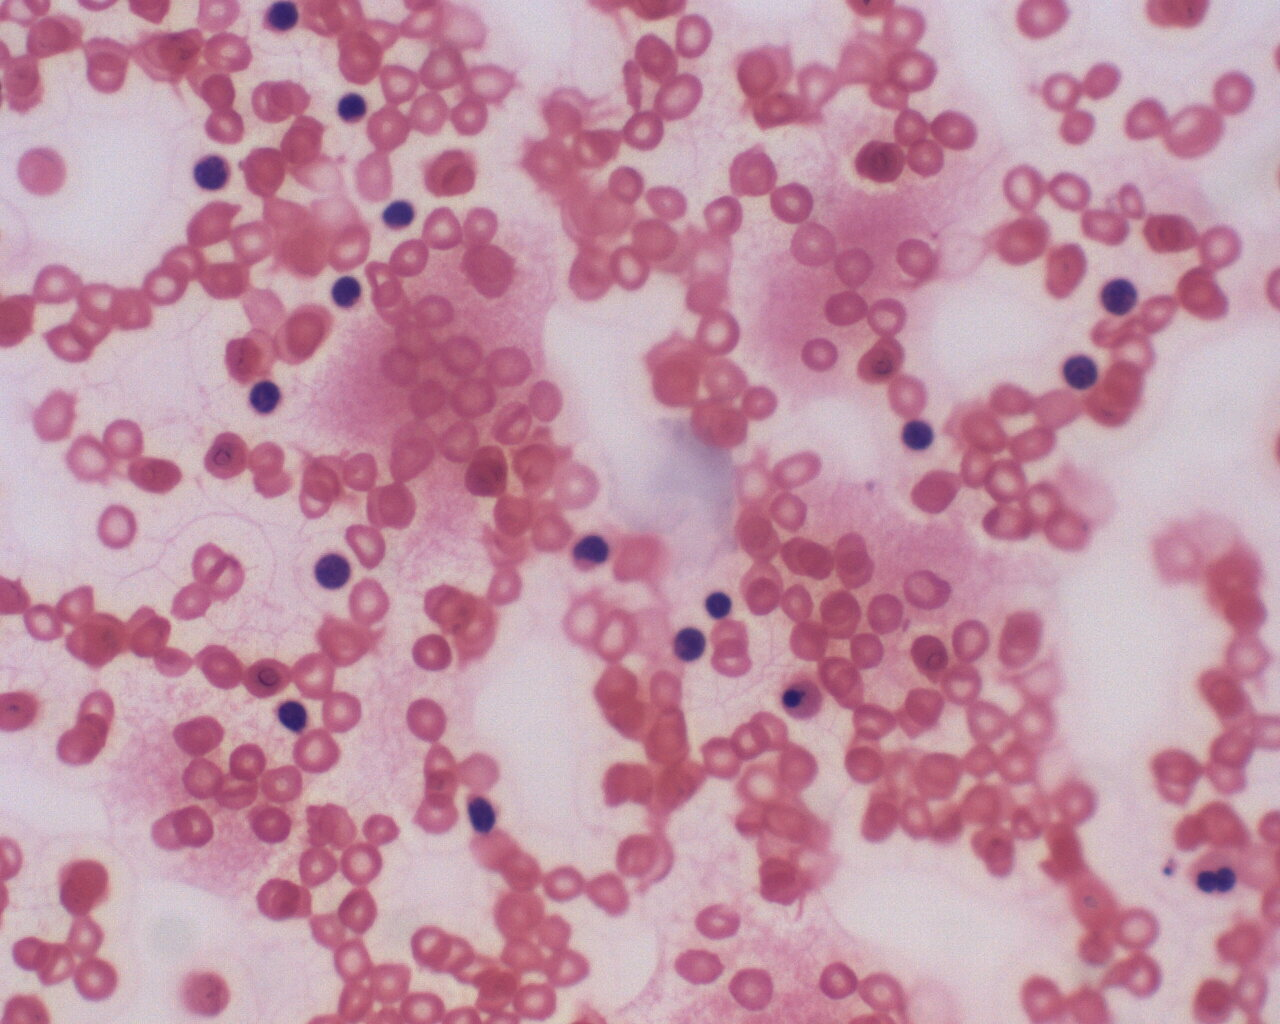lymph: (304, 550, 365, 594), (185, 145, 239, 188), (1060, 347, 1107, 395), (325, 266, 368, 315), (892, 416, 942, 456), (1099, 273, 1144, 316), (696, 583, 740, 622), (334, 88, 374, 123)
neutro: (668, 620, 709, 664), (246, 376, 286, 413)
